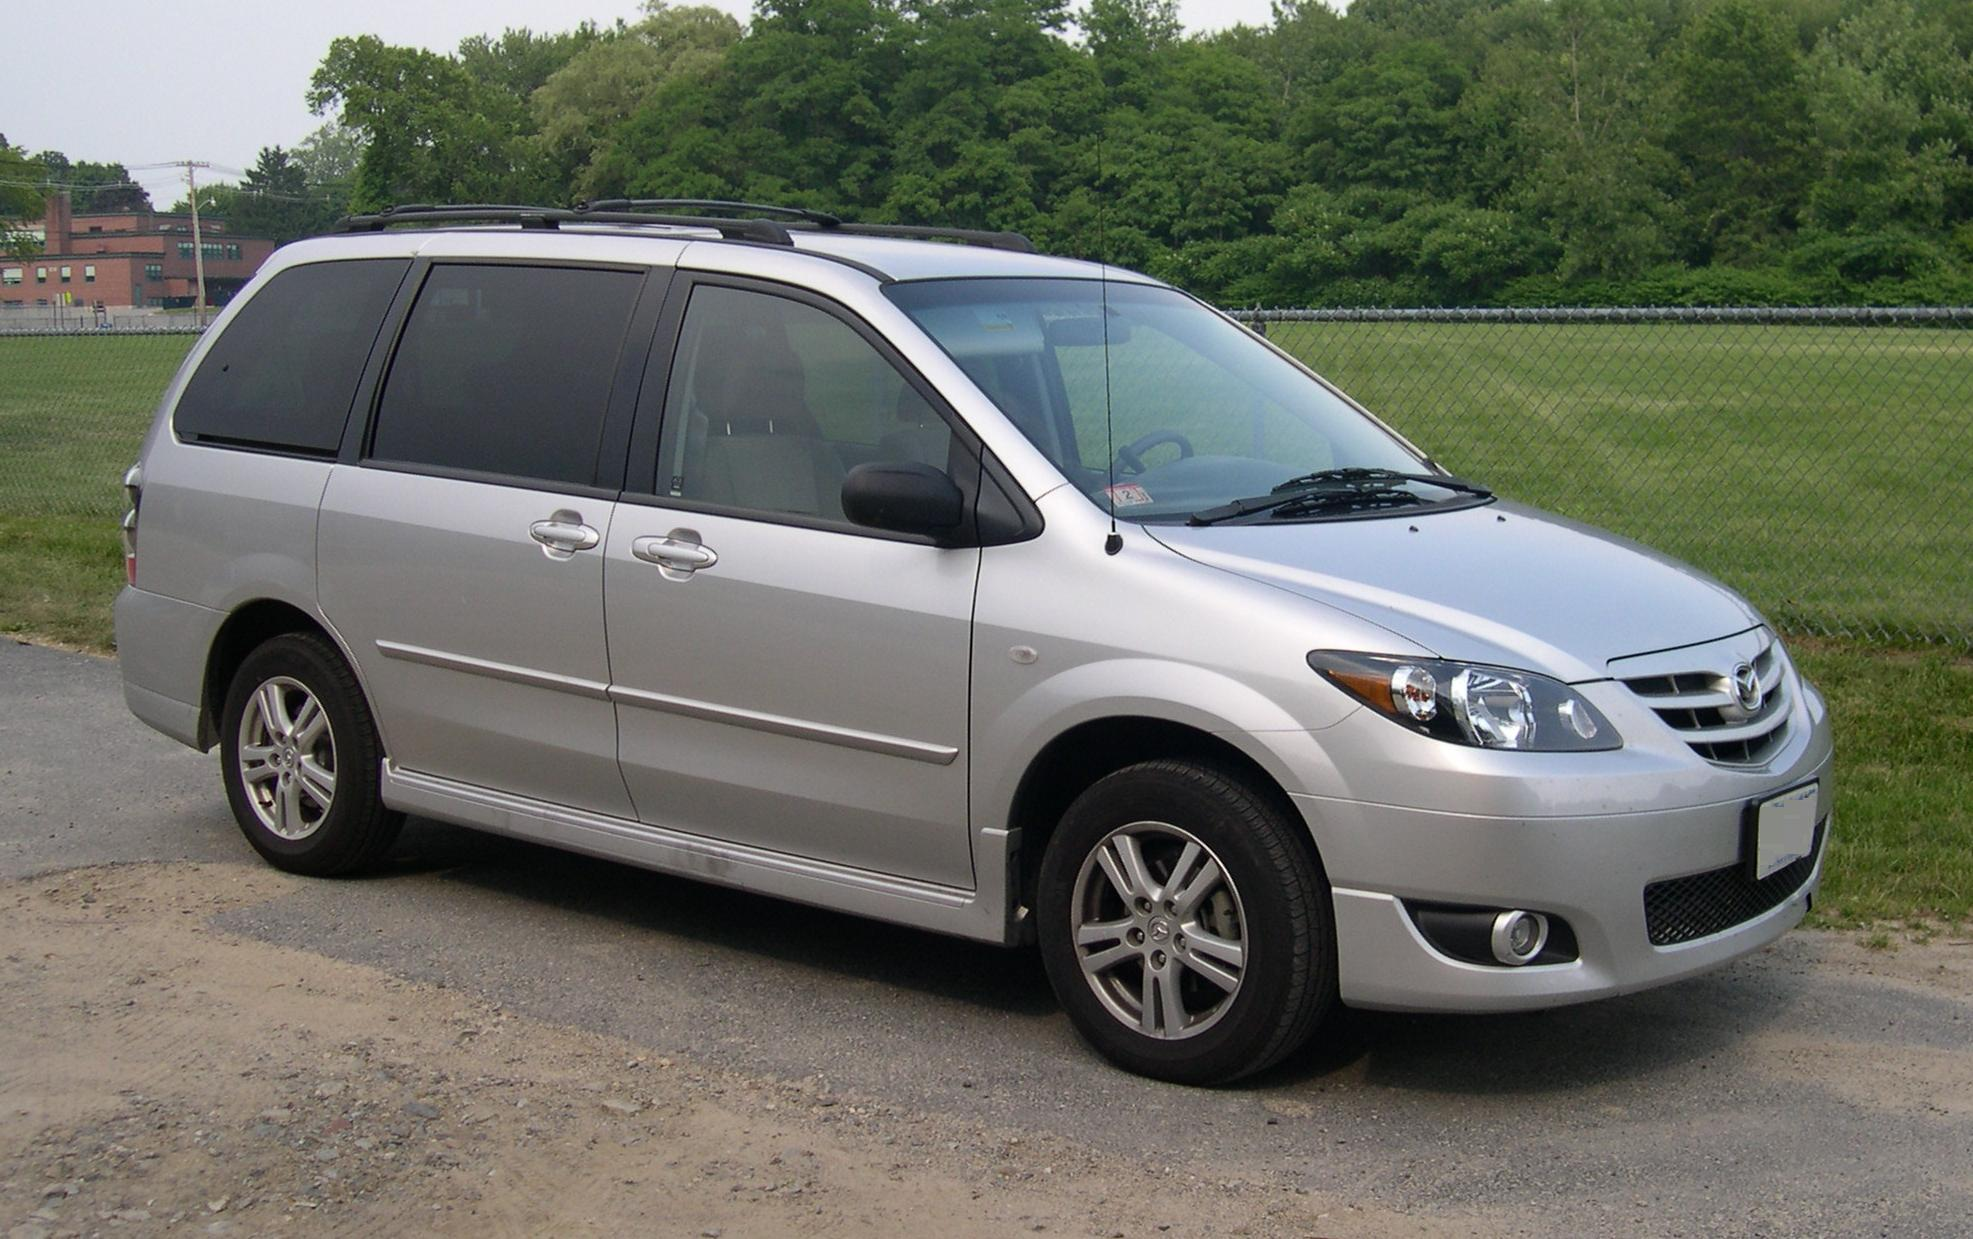car: (117, 221, 1839, 1103)
